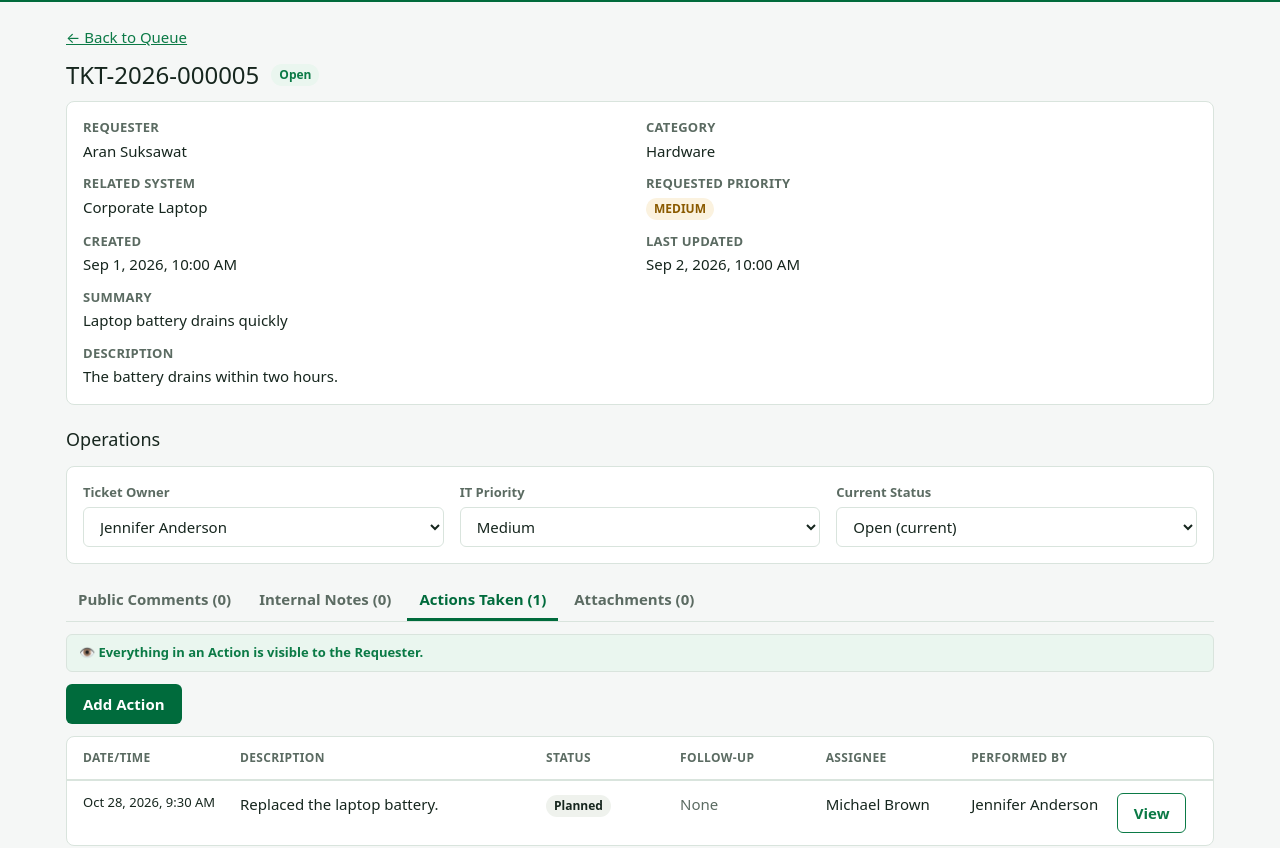
Test: Actions Taken on the IT Staff Ticket Detail › UI-13: a STALE_VERSION answer keeps the typed text until Reload latest, which then shows the new version
Click the button with aria-label "view action: replaced the laptop battery" at coordinates (1152, 813), box [1117,793,1186,833]
(page scrolled)
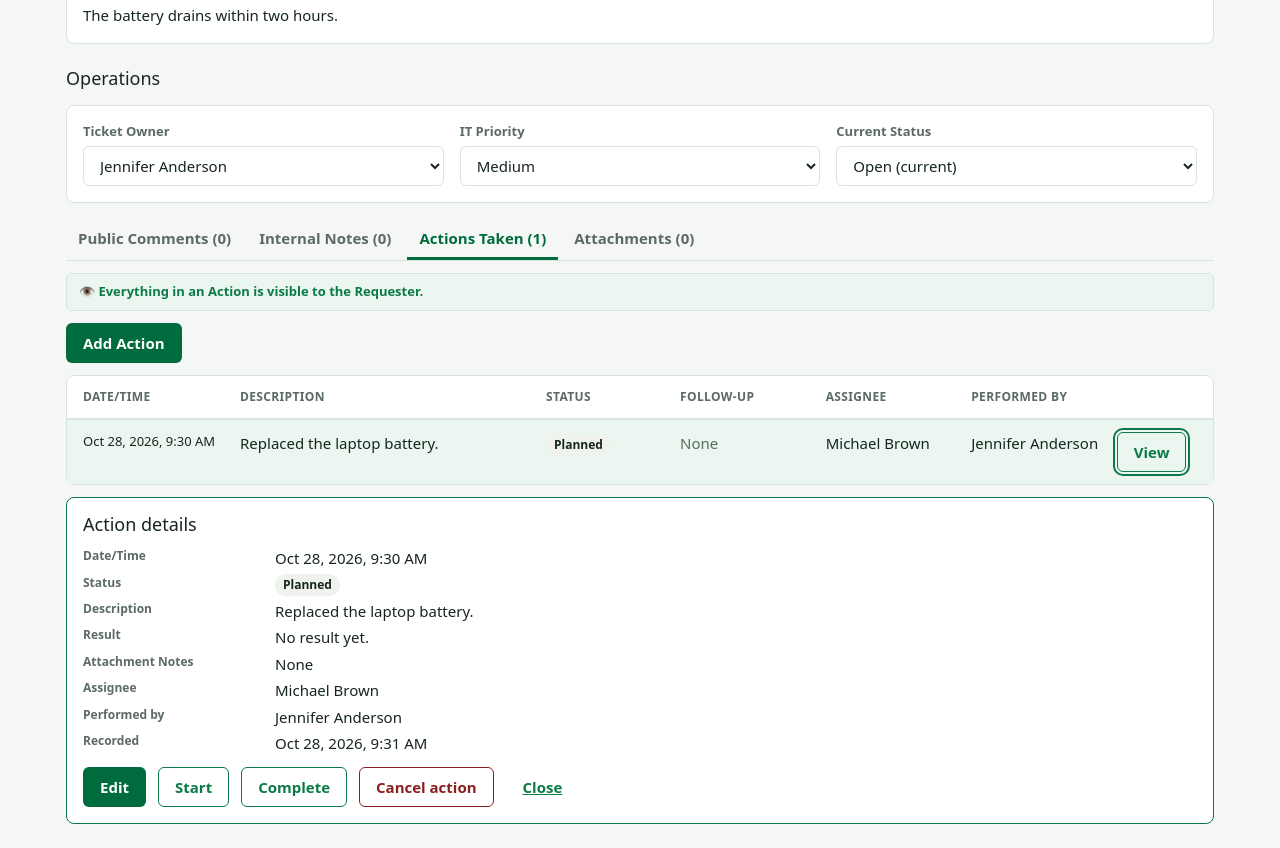
Click the button "Edit" at coordinates (114, 787), box [83,767,146,807]
(page scrolled)
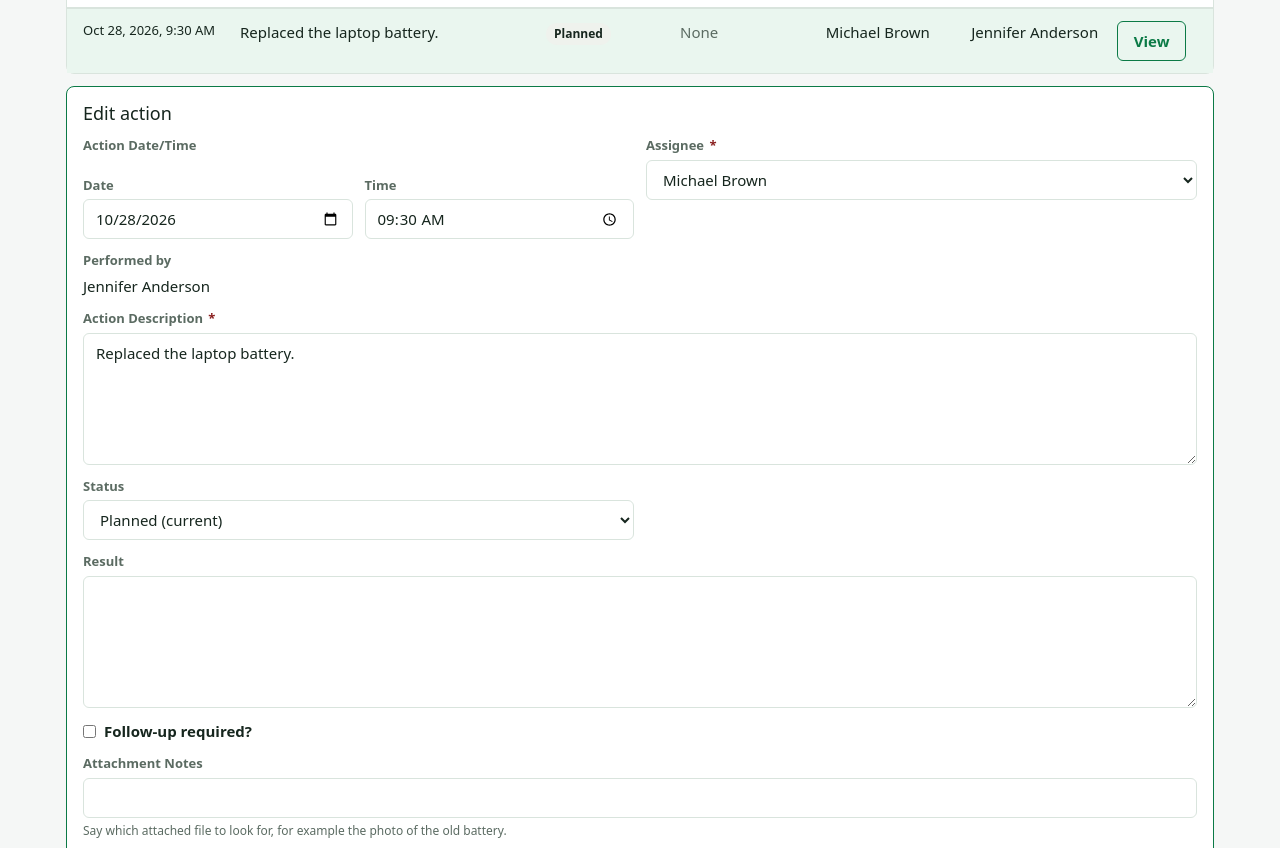
Replace the text in the text box labelled "Action Description *" with "My edit of the description" at coordinates (640, 399), box [83,333,1197,465]
(page scrolled)
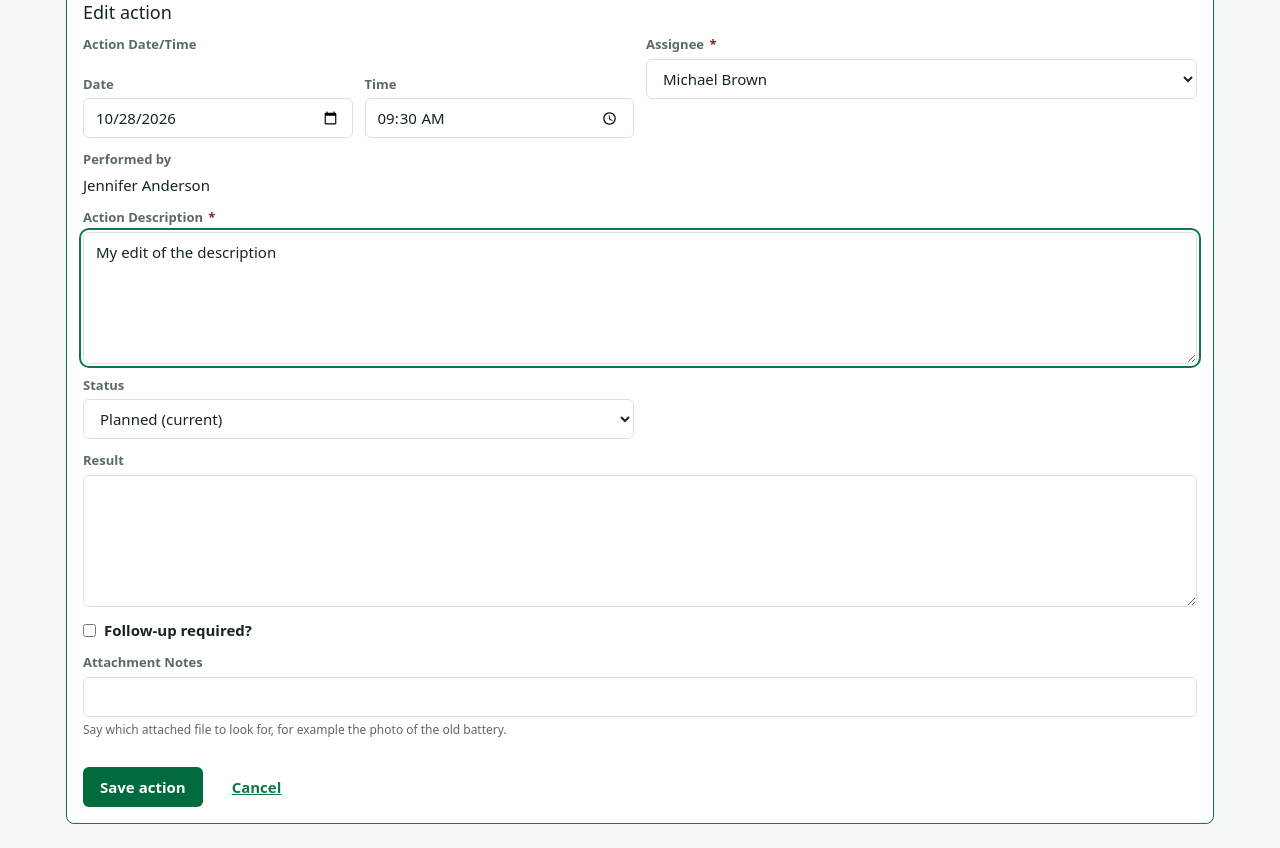
Click the button "Save action" at coordinates (143, 787), box [83,767,203,807]
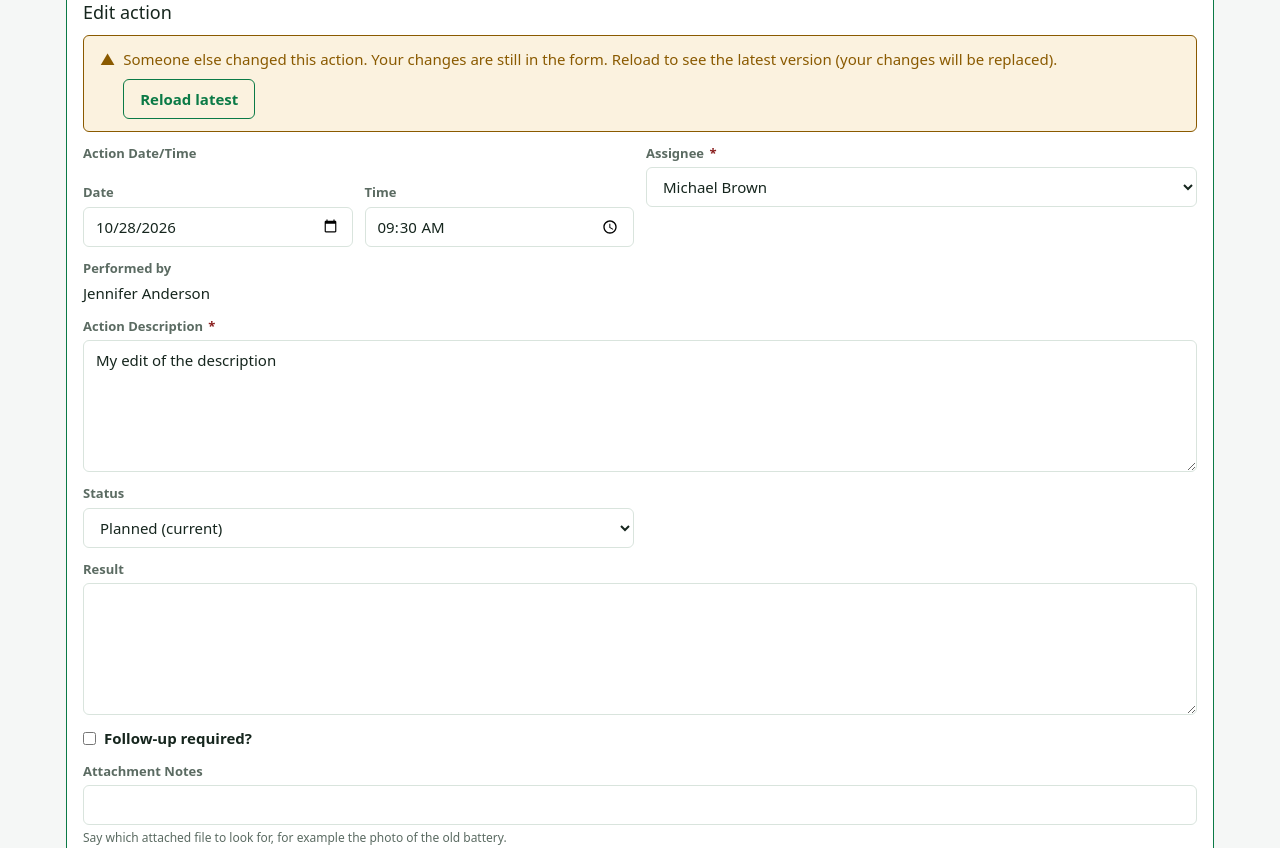
Expected: the text "Someone else changed this action" is shown, [123,50,1057,70]
Click the button "Reload latest" at coordinates (189, 99), box [123,79,255,119]
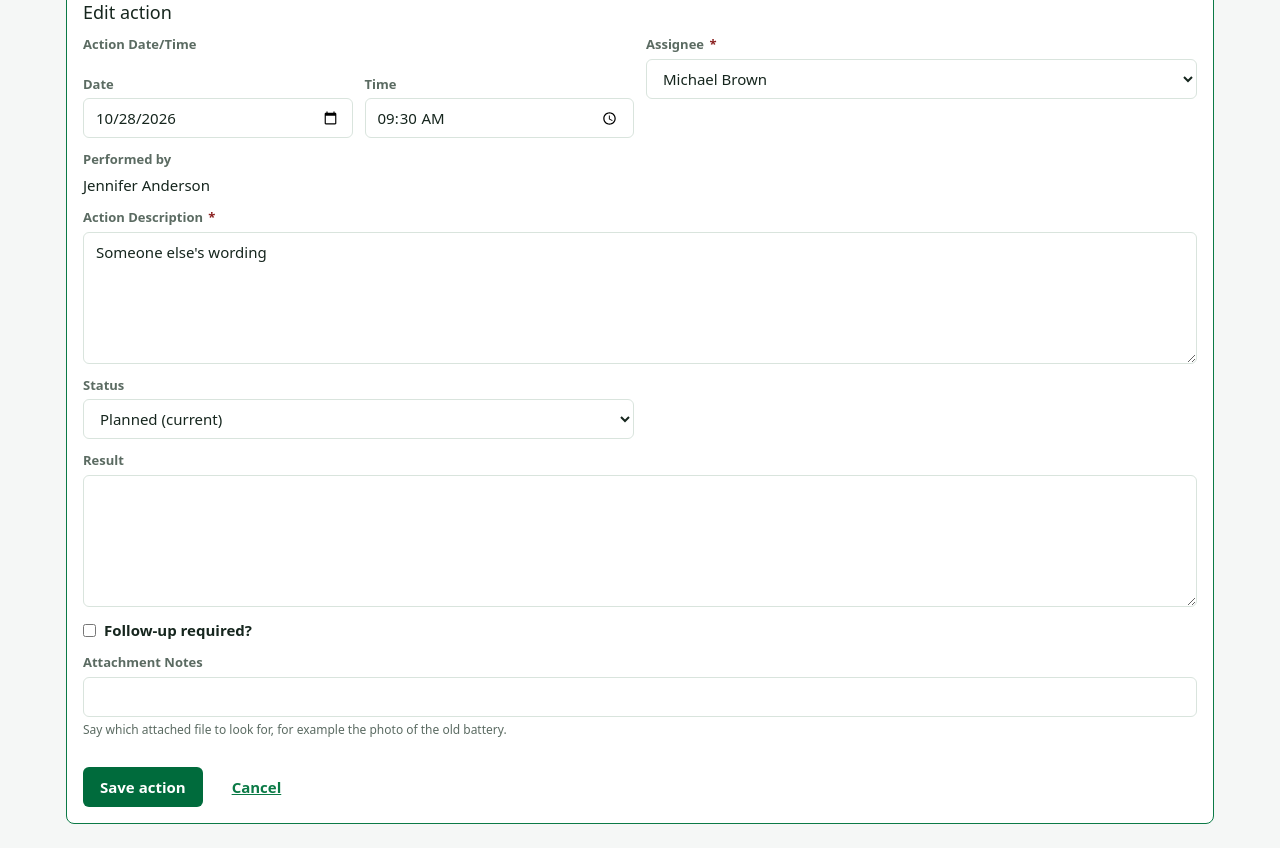
Expected: the text "Someone else changed this action" is gone
Expected: the text box labelled "Action Description *" holds "Someone else's wording", [83,232,1197,364]
